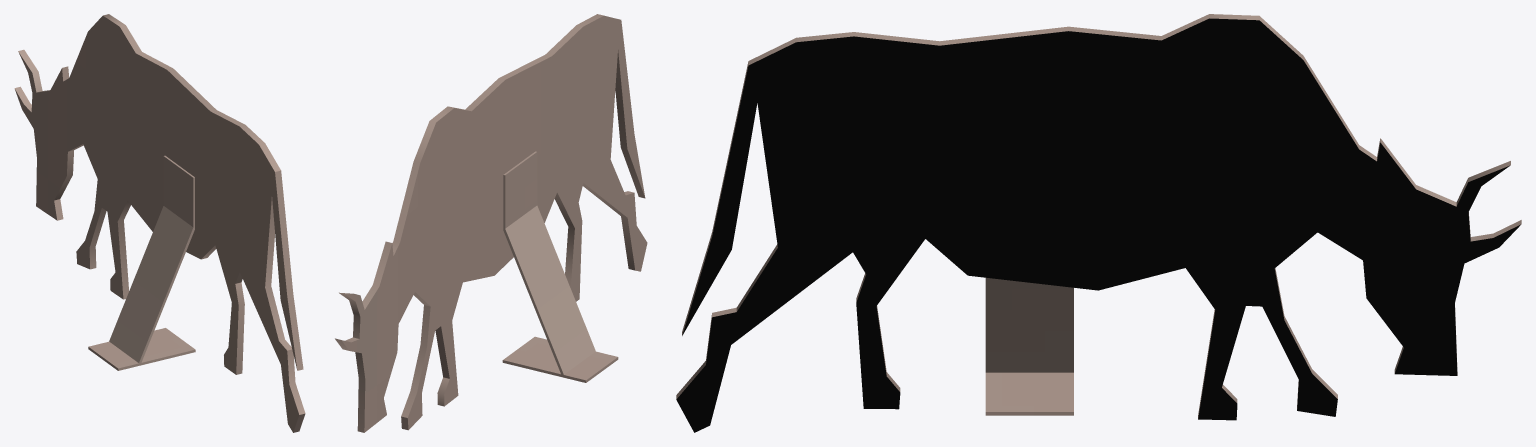
3 views of the same model, side by side, from view 1: azimuth 30°, elevation 25°; view 2: azimuth 150°, elevation 25°; view 3: azimuth 270°, elevation 25° (orthographic). The views are drawn at different scales.
Parts seen in each view (by area): view 1: Ku 2; view 2: Ku 2; view 3: Ku 2.
Part boxes in pixels (x1,y1,x2,y2): Ku 2: (14, 14, 305, 432); Ku 2: (335, 14, 647, 432); Ku 2: (676, 14, 1521, 432).
Bounding box in the file's own units: 40.25 × 129 × 239.
